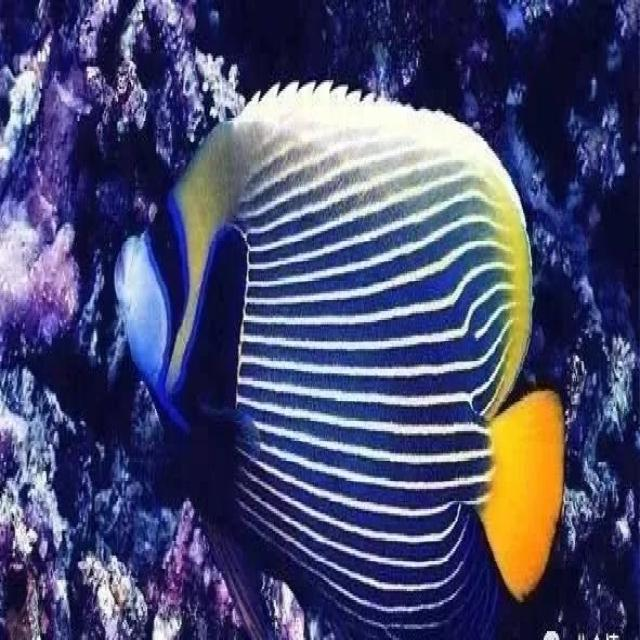AngelFish: (116, 76, 564, 635)
